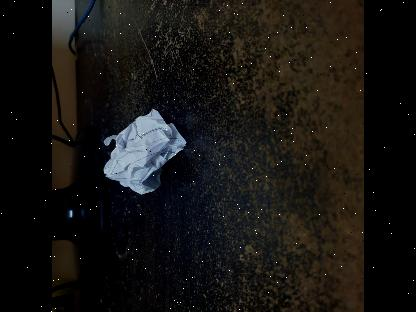Others: (100, 108, 184, 192)
